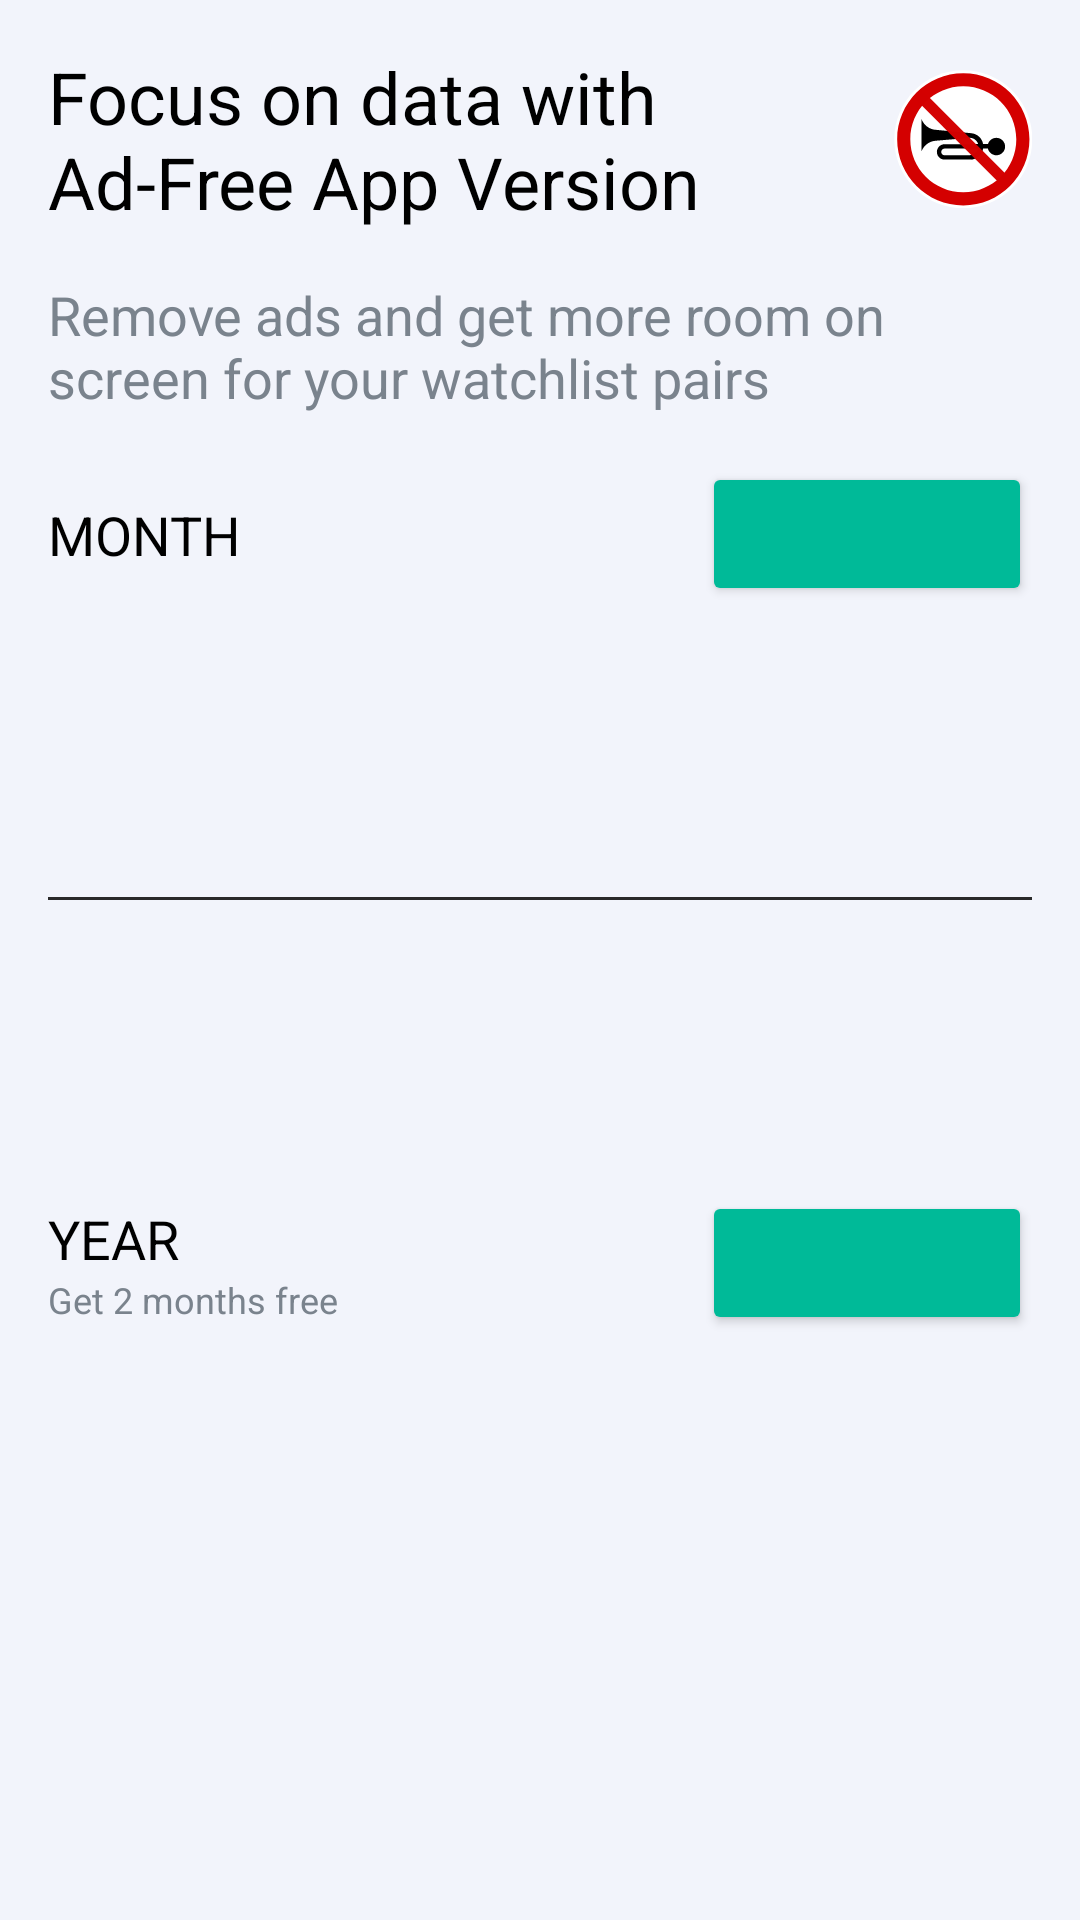

Screen size 1080px x 1920px. Icon name, then its box in pixels as (x1, y1, x2, y2):
no horns: (894, 70, 1032, 208)
